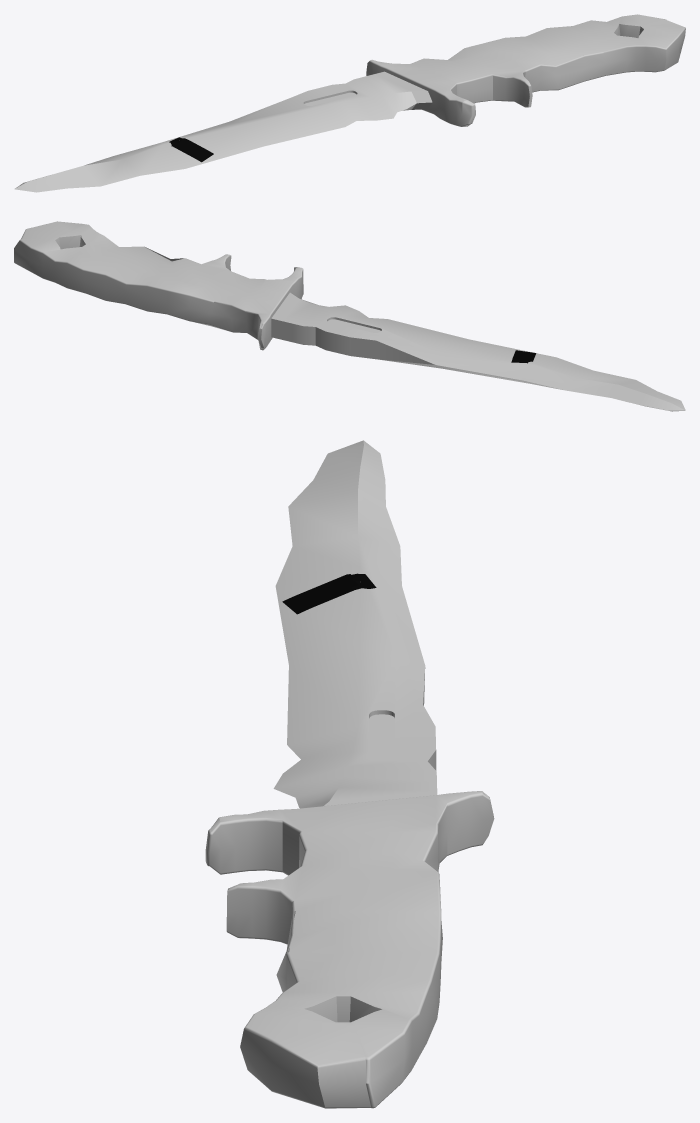
File: RealKnife.fbx
The picture shows the model from 3 angles, top to bottom: view 1: azimuth 30°, elevation 25°; view 2: azimuth 150°, elevation 25°; view 3: azimuth 270°, elevation 25°; orthographic projection. The views are drawn at different scales.
Parts seen in each view (by area): view 1: FACA LOWPOLY.001, FACA LOWPOLY, Finigerprint 36; view 2: FACA LOWPOLY.001, FACA LOWPOLY; view 3: FACA LOWPOLY.001, FACA LOWPOLY, Finigerprint 36.
Part boxes in pixels (bbox=[...]): FACA LOWPOLY.001: bbox=[366, 14, 685, 126]; FACA LOWPOLY: bbox=[14, 71, 432, 192]; Finigerprint 36: bbox=[169, 137, 213, 162]; FACA LOWPOLY.001: bbox=[14, 221, 303, 350]; FACA LOWPOLY: bbox=[271, 292, 685, 411]; FACA LOWPOLY.001: bbox=[205, 791, 494, 1108]; FACA LOWPOLY: bbox=[273, 440, 437, 808]; Finigerprint 36: bbox=[282, 573, 376, 614].
Size of the model in its own units: 293 by 11.7 by 55.51.
